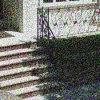stairs: (0, 39, 68, 100)
